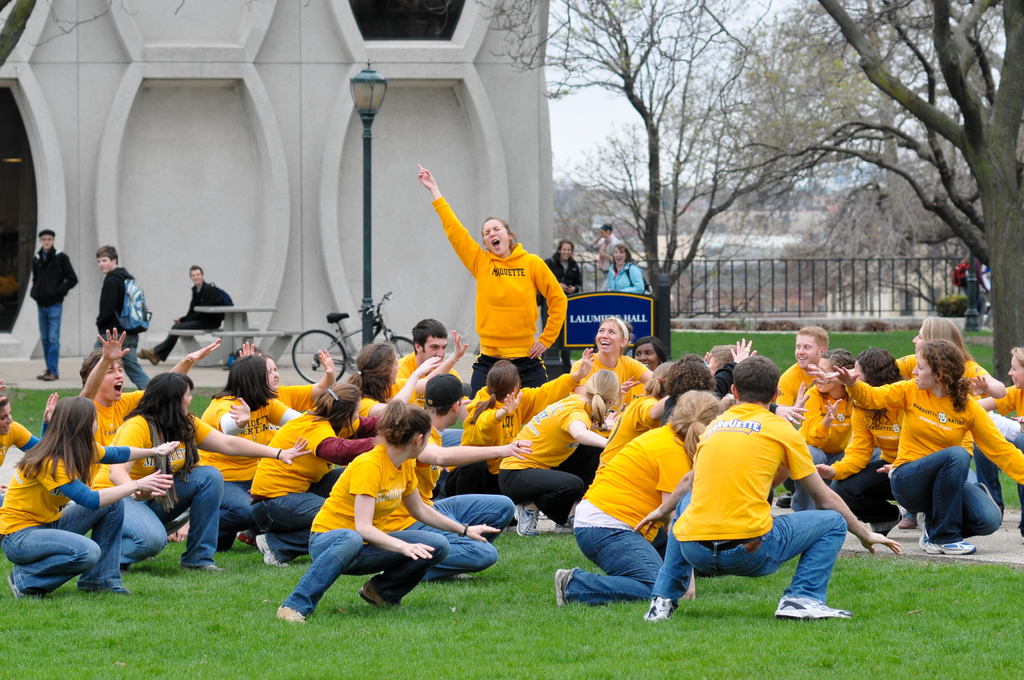Person: (0, 164, 1024, 622)
